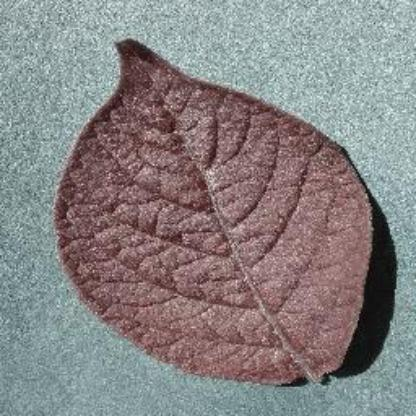Healthy-plant: (49, 32, 376, 392)
